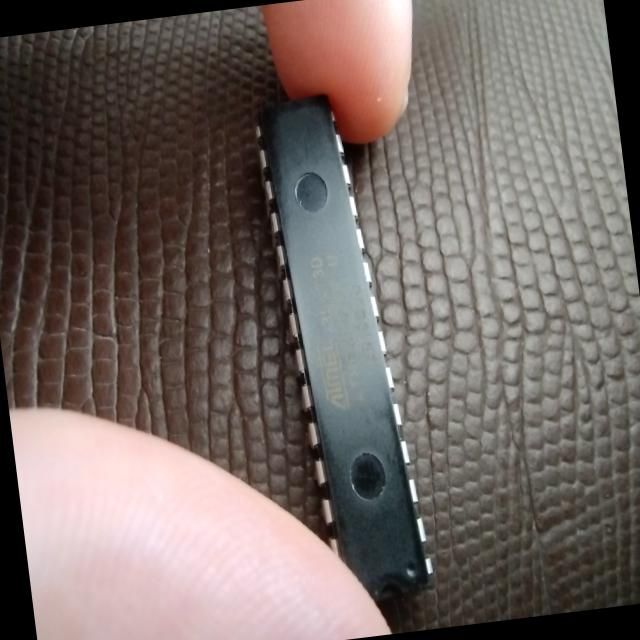atmega: (248, 84, 438, 613)
